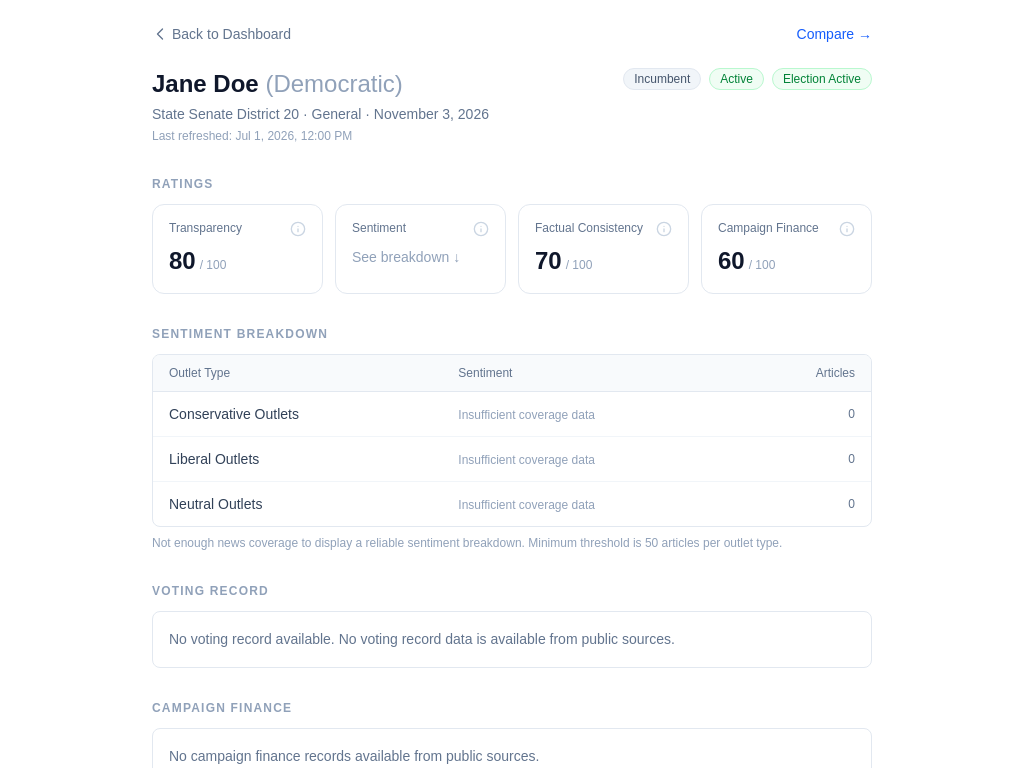
Test: CandidateProfile rating cards and popups › closes the rating popup when clicking the backdrop
Click the button named "Open Factual Consistency explanation": (664, 229) [656,221,672,237]
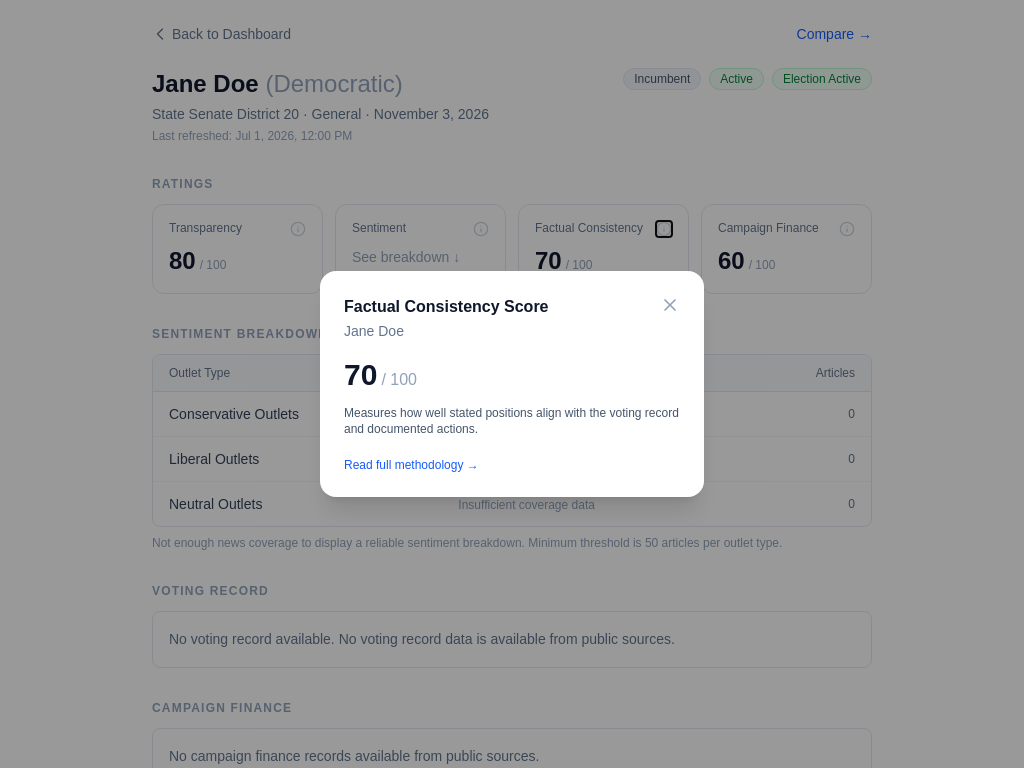
Expected: the heading "Factual Consistency Score" is shown, [344,295,548,319]
Click the element "Factual Consistency Score": (61, 384) [0,0,1023,767]
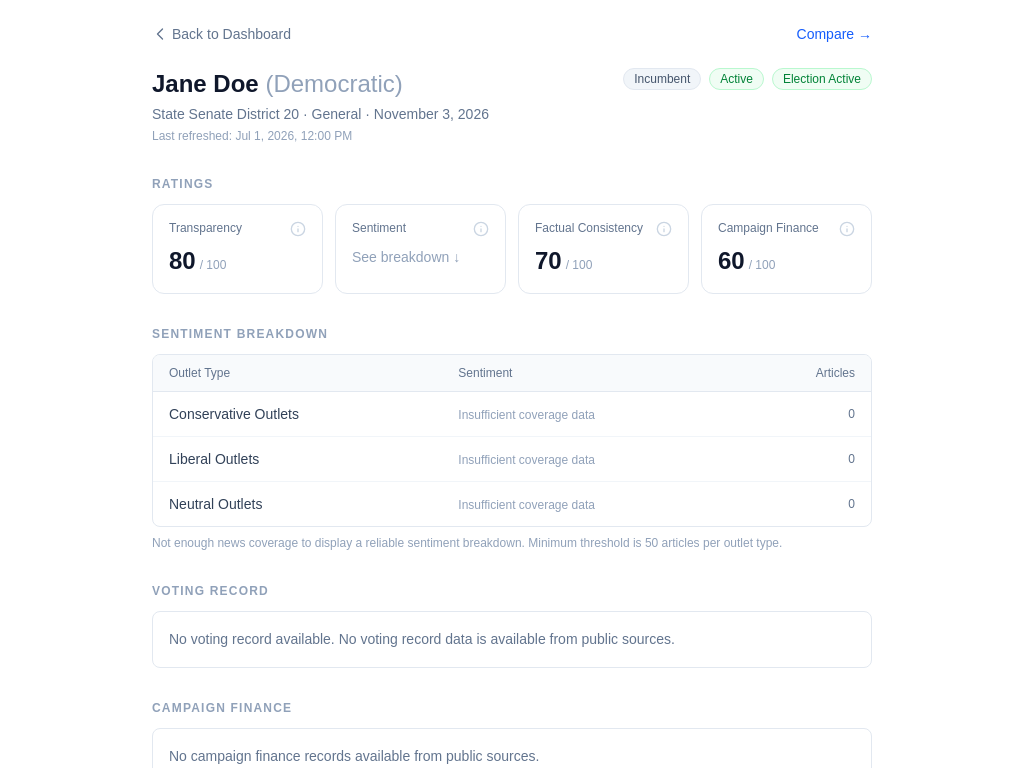
Expected: the heading "Factual Consistency Score" is gone
